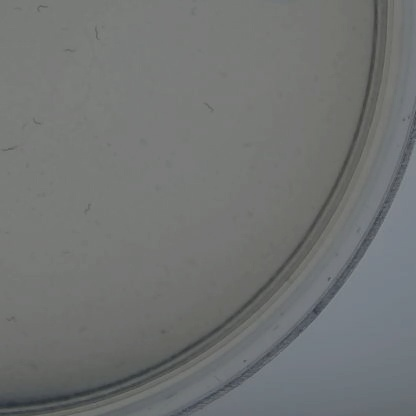worm: (0, 139, 25, 159), (85, 23, 106, 44), (28, 111, 48, 133), (58, 45, 83, 59), (32, 0, 52, 16), (0, 312, 22, 326), (77, 201, 95, 217), (202, 97, 217, 116), (8, 1, 24, 16)
